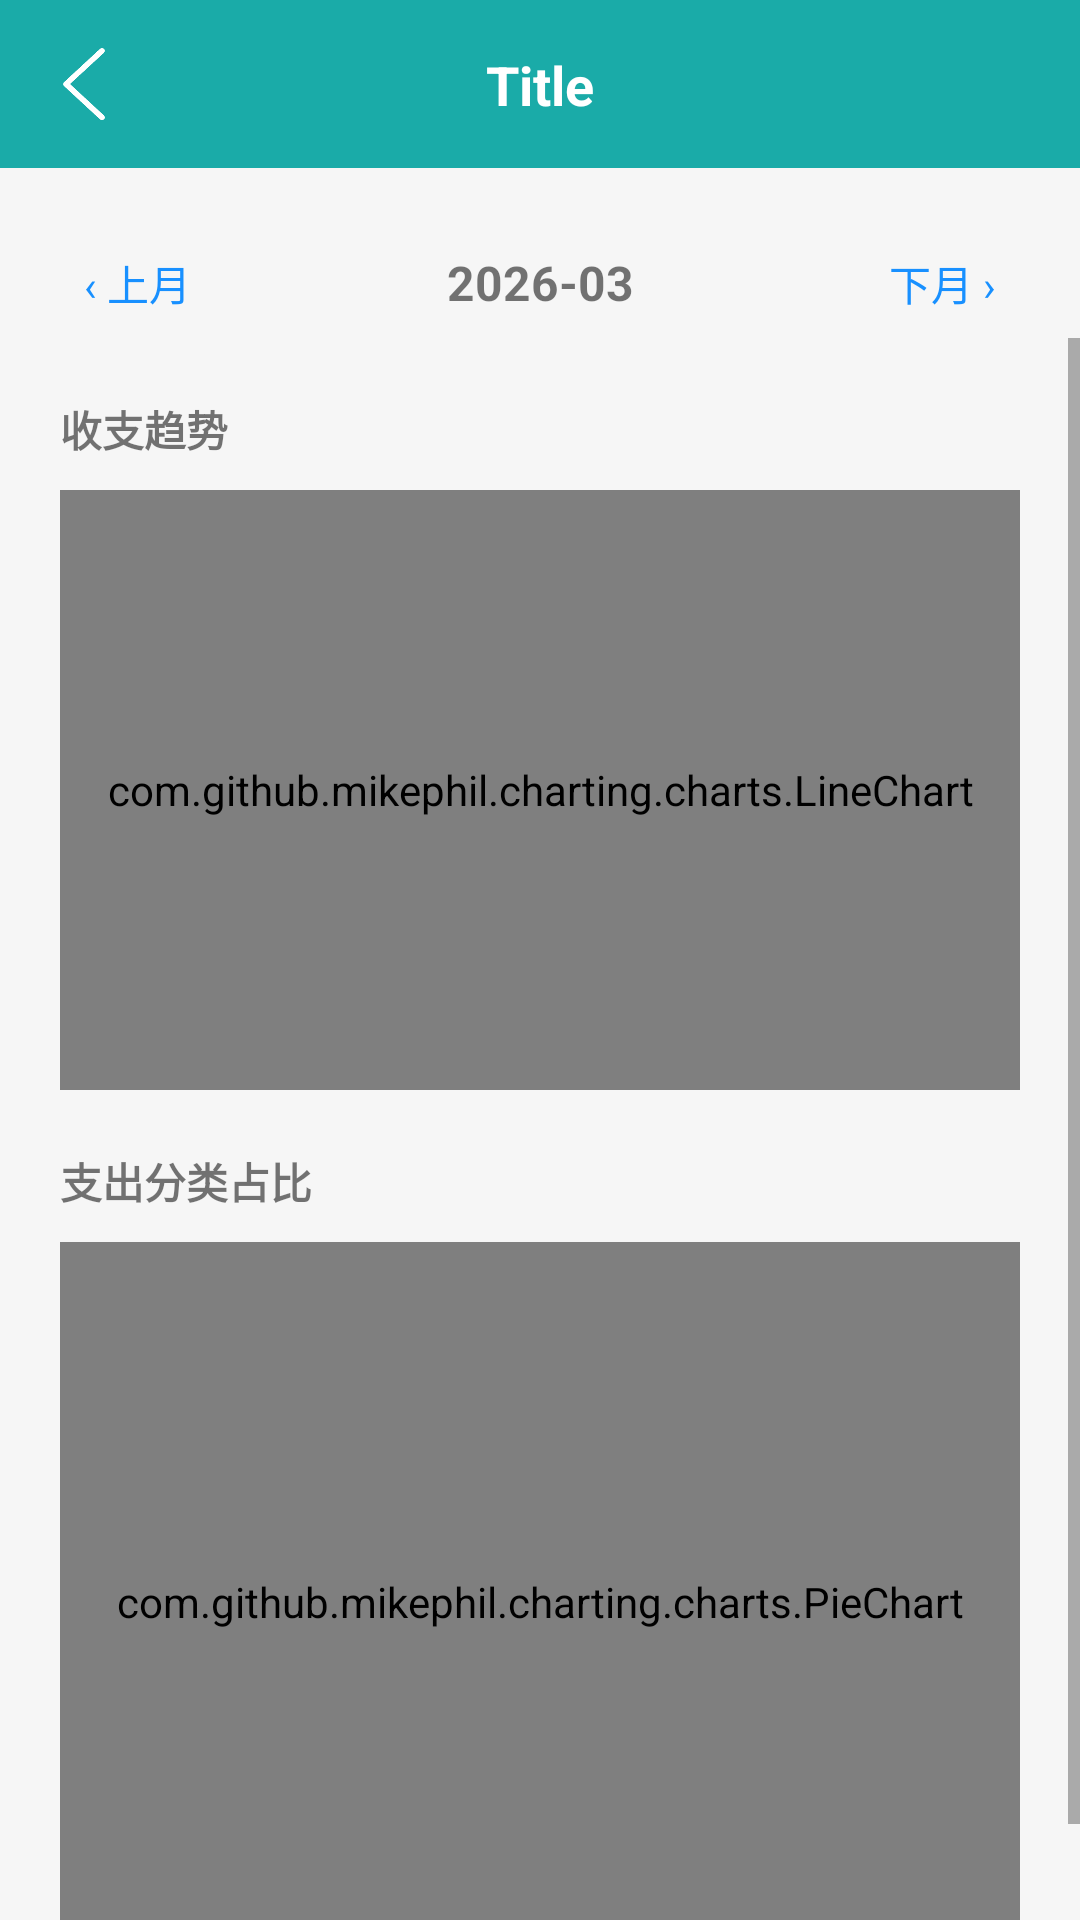

Point at icon controls on the screen. Image size 1080px×1920px, points as [x,y].
back: [84,84]
